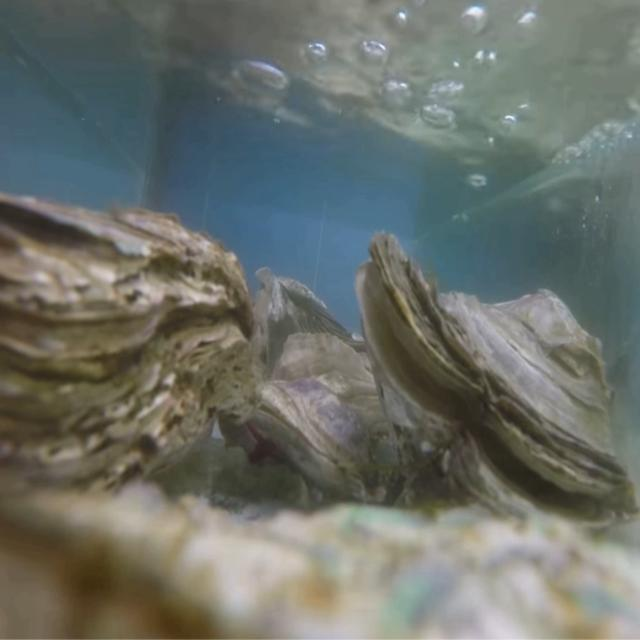Oyster-Closed: (0, 195, 256, 527), (251, 335, 410, 508)
Oyster-Indeterminate: (0, 484, 640, 640), (254, 261, 370, 377)
Oyster-Open: (356, 232, 640, 545)
